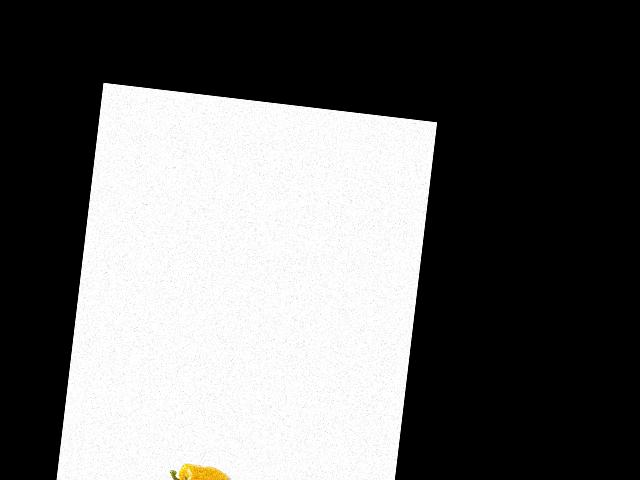bell_pepper: (163, 455, 233, 480)
